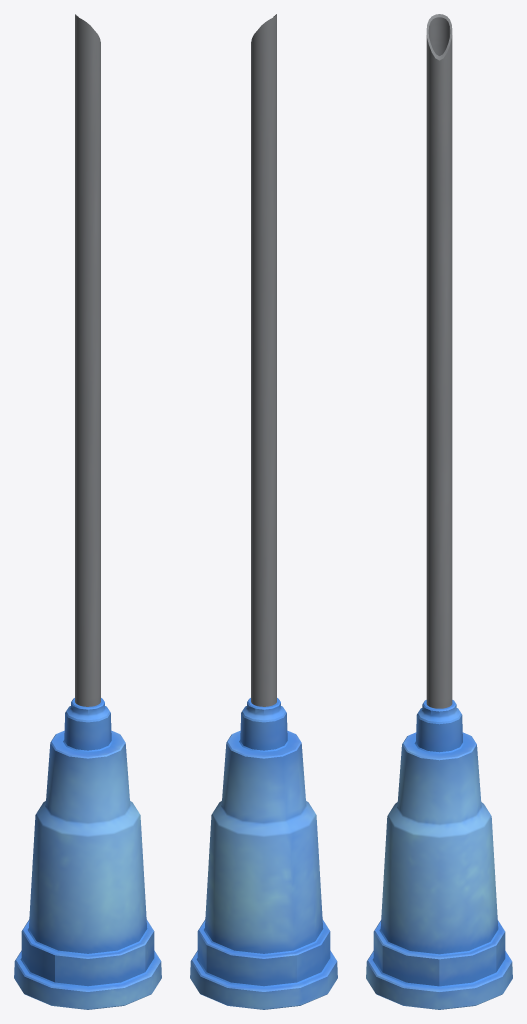
The model's file is FBX_SyringeNeedle22g.fbx.
3 views of the same model, side by side, from view 1: azimuth 30°, elevation 25°; view 2: azimuth 150°, elevation 25°; view 3: azimuth 270°, elevation 25° (orthographic).
Parts seen in each view (by area): view 1: SM_SyringeNeedle_22g; view 2: SM_SyringeNeedle_22g; view 3: SM_SyringeNeedle_22g.
Boxes of the visible parts, x1,y1,x2,y2 form: SM_SyringeNeedle_22g: (14, 14, 161, 1009); SM_SyringeNeedle_22g: (190, 14, 337, 1009); SM_SyringeNeedle_22g: (366, 14, 512, 1009).
Size of the model in its own units: 0.00718 by 0.0517 by 0.00718.
